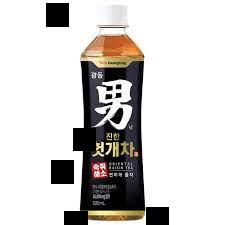heotgaecha: (79, 2, 147, 223)
